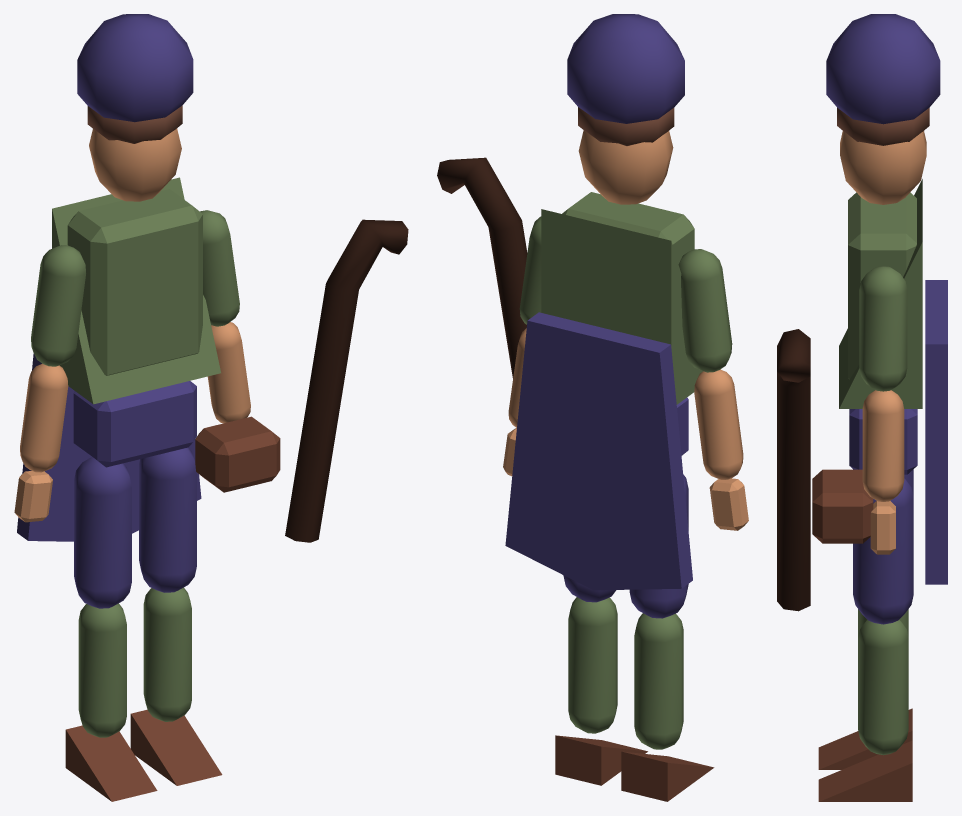
Rendered from adventurer.rustic.glb.
3 renders of one model, left to right at view 1: azimuth 30°, elevation 25°; view 2: azimuth 150°, elevation 25°; view 3: azimuth 270°, elevation 25°, orthographic.
Visible parts, largest first — view 1: torso, accessory.main-hand, accessory.head, thigh.left, pelvis, thigh.right, tunic, shin.right, shin.left, upper-arm.left, accessory.waist, head (+8 smaller); view 2: accessory.back, tunic, accessory.head, accessory.main-hand, shin.left, shin.right, upper-arm.left, head, forearm.left, torso, foot.left, foot.right (+7 smaller); view 3: accessory.head, accessory.main-hand, accessory.back, shin.right, torso, upper-arm.right, thigh.right, head, tunic, forearm.right, accessory.waist, foot.right (+4 smaller).
Boxes of the visible parts, x1,y1,x2,y2 form: torso: [67, 189, 202, 375]; accessory.main-hand: [285, 219, 408, 542]; accessory.head: [77, 14, 193, 122]; thigh.left: [74, 457, 131, 608]; pelvis: [73, 381, 196, 467]; thigh.right: [139, 447, 196, 592]; tunic: [52, 177, 220, 404]; shin.right: [143, 587, 191, 721]; shin.left: [78, 603, 126, 737]; upper-arm.left: [31, 245, 85, 366]; accessory.waist: [195, 416, 280, 492]; head: [89, 128, 181, 201]; accessory.back: [505, 312, 692, 590]; tunic: [541, 209, 702, 404]; accessory.head: [567, 14, 684, 123]; accessory.main-hand: [437, 157, 527, 378]; shin.left: [634, 613, 683, 749]; shin.right: [568, 597, 617, 733]; upper-arm.left: [678, 249, 732, 372]; head: [578, 130, 673, 204]; forearm.left: [694, 369, 743, 479]; torso: [562, 192, 694, 263]; foot.left: [621, 751, 714, 801]; foot.right: [555, 735, 647, 785]; accessory.head: [826, 14, 940, 124]; accessory.main-hand: [777, 329, 810, 611]; accessory.back: [925, 280, 947, 584]; shin.right: [858, 620, 908, 755]; torso: [848, 192, 916, 379]; upper-arm.right: [859, 266, 907, 391]; thigh.right: [853, 478, 913, 624]; head: [840, 131, 926, 204]; tunic: [839, 179, 922, 408]; forearm.right: [862, 390, 904, 501]; accessory.waist: [812, 469, 873, 543]; foot.right: [818, 740, 912, 801].
Size of the model in its own units: 1.58 by 3.29 by 0.675.
